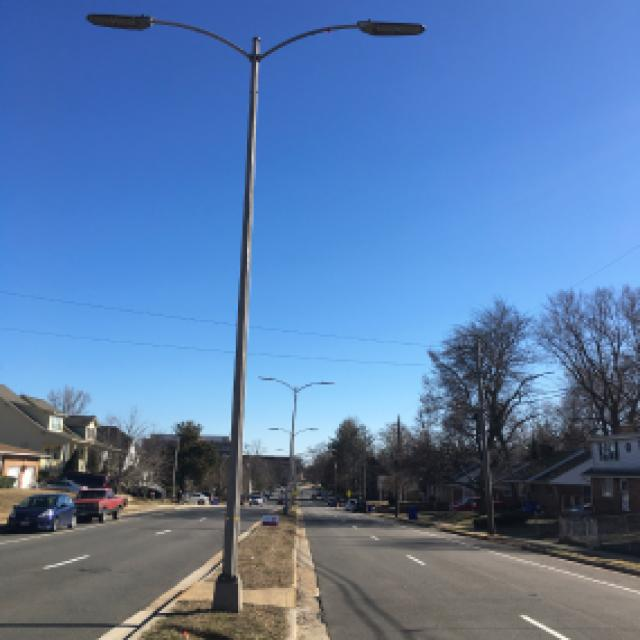Electric pole: (89, 15, 427, 612)
